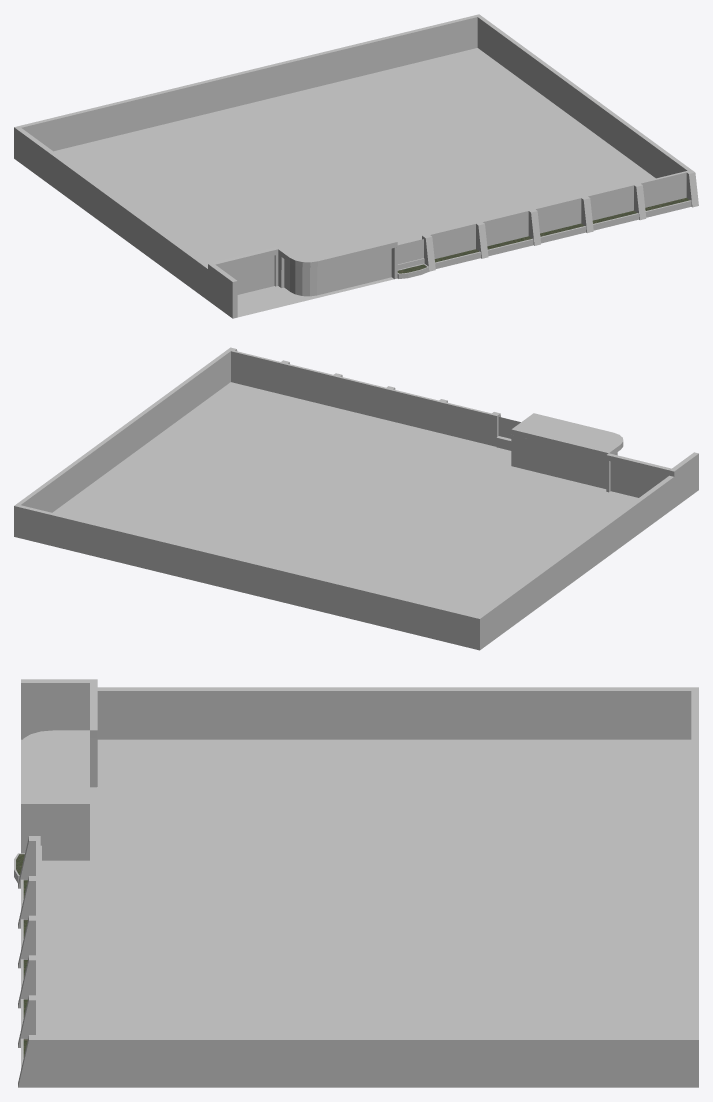
3 renders of one model, top to bottom at view 1: azimuth 30°, elevation 25°; view 2: azimuth 150°, elevation 25°; view 3: azimuth 270°, elevation 25°, orthographic. The views are drawn at different scales.
Parts seen in each view (by area): view 1: Base-15; view 2: Base-15; view 3: Base-15.
Part boxes in pixels (box(x1,y1,x2,y2)): Base-15: box(14, 14, 698, 318); Base-15: box(14, 347, 698, 650); Base-15: box(14, 679, 698, 1087).
Size of what is drawn, in the model's own units: 44.2 by 3.45 by 36.37.
